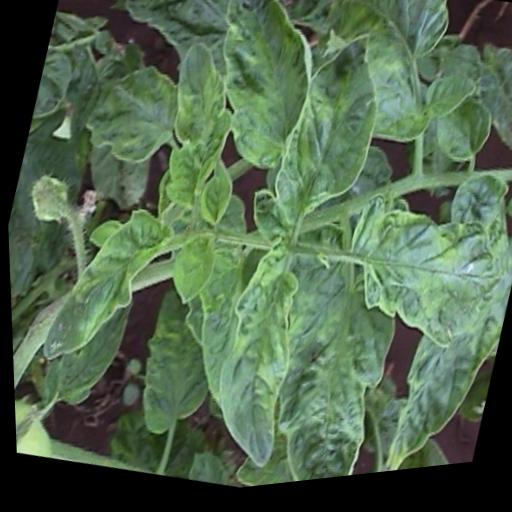Mosaic Virus: (244, 246, 408, 491), (256, 26, 398, 255), (172, 0, 332, 193), (330, 197, 506, 372), (189, 249, 319, 483), (31, 195, 176, 392), (145, 37, 249, 221), (66, 55, 187, 179), (160, 227, 220, 316), (417, 70, 476, 135)
